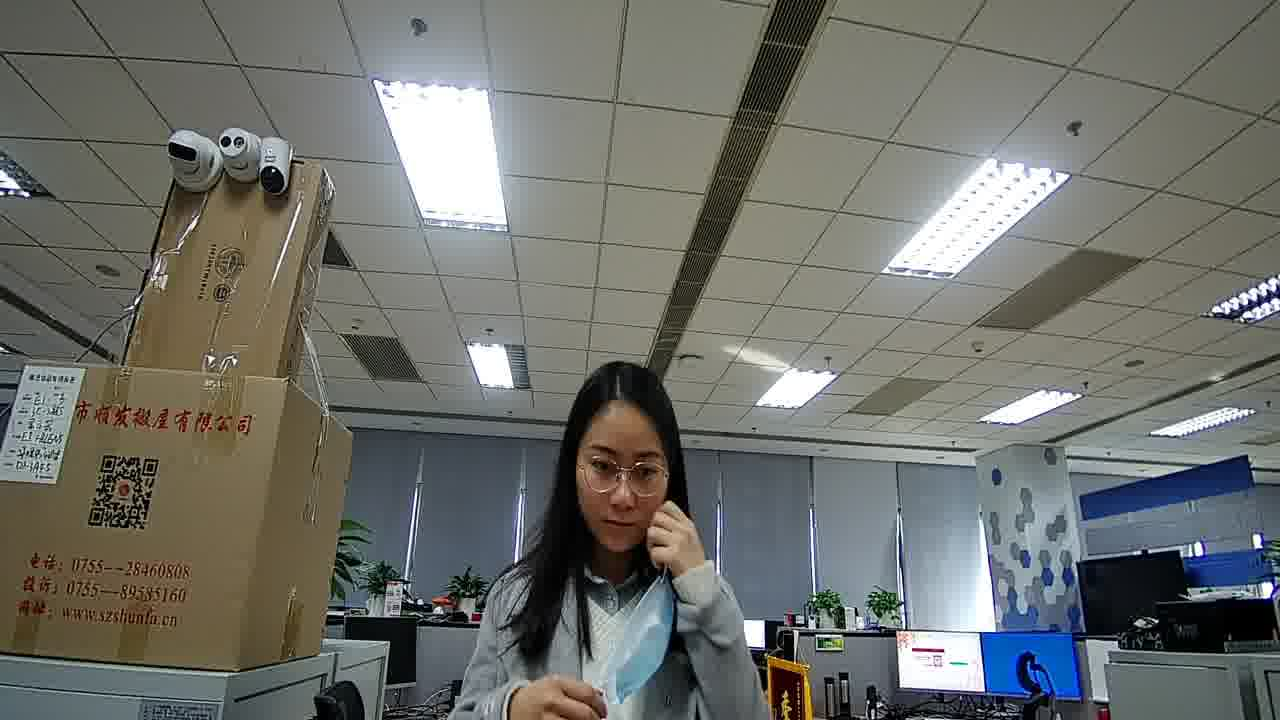face: (557, 409, 678, 547)
person: (488, 359, 725, 664)
